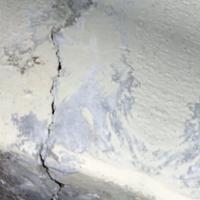crack: (32, 7, 76, 199)
